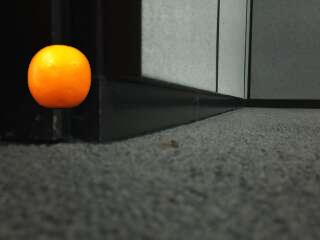Orange: (26, 44, 92, 110)
